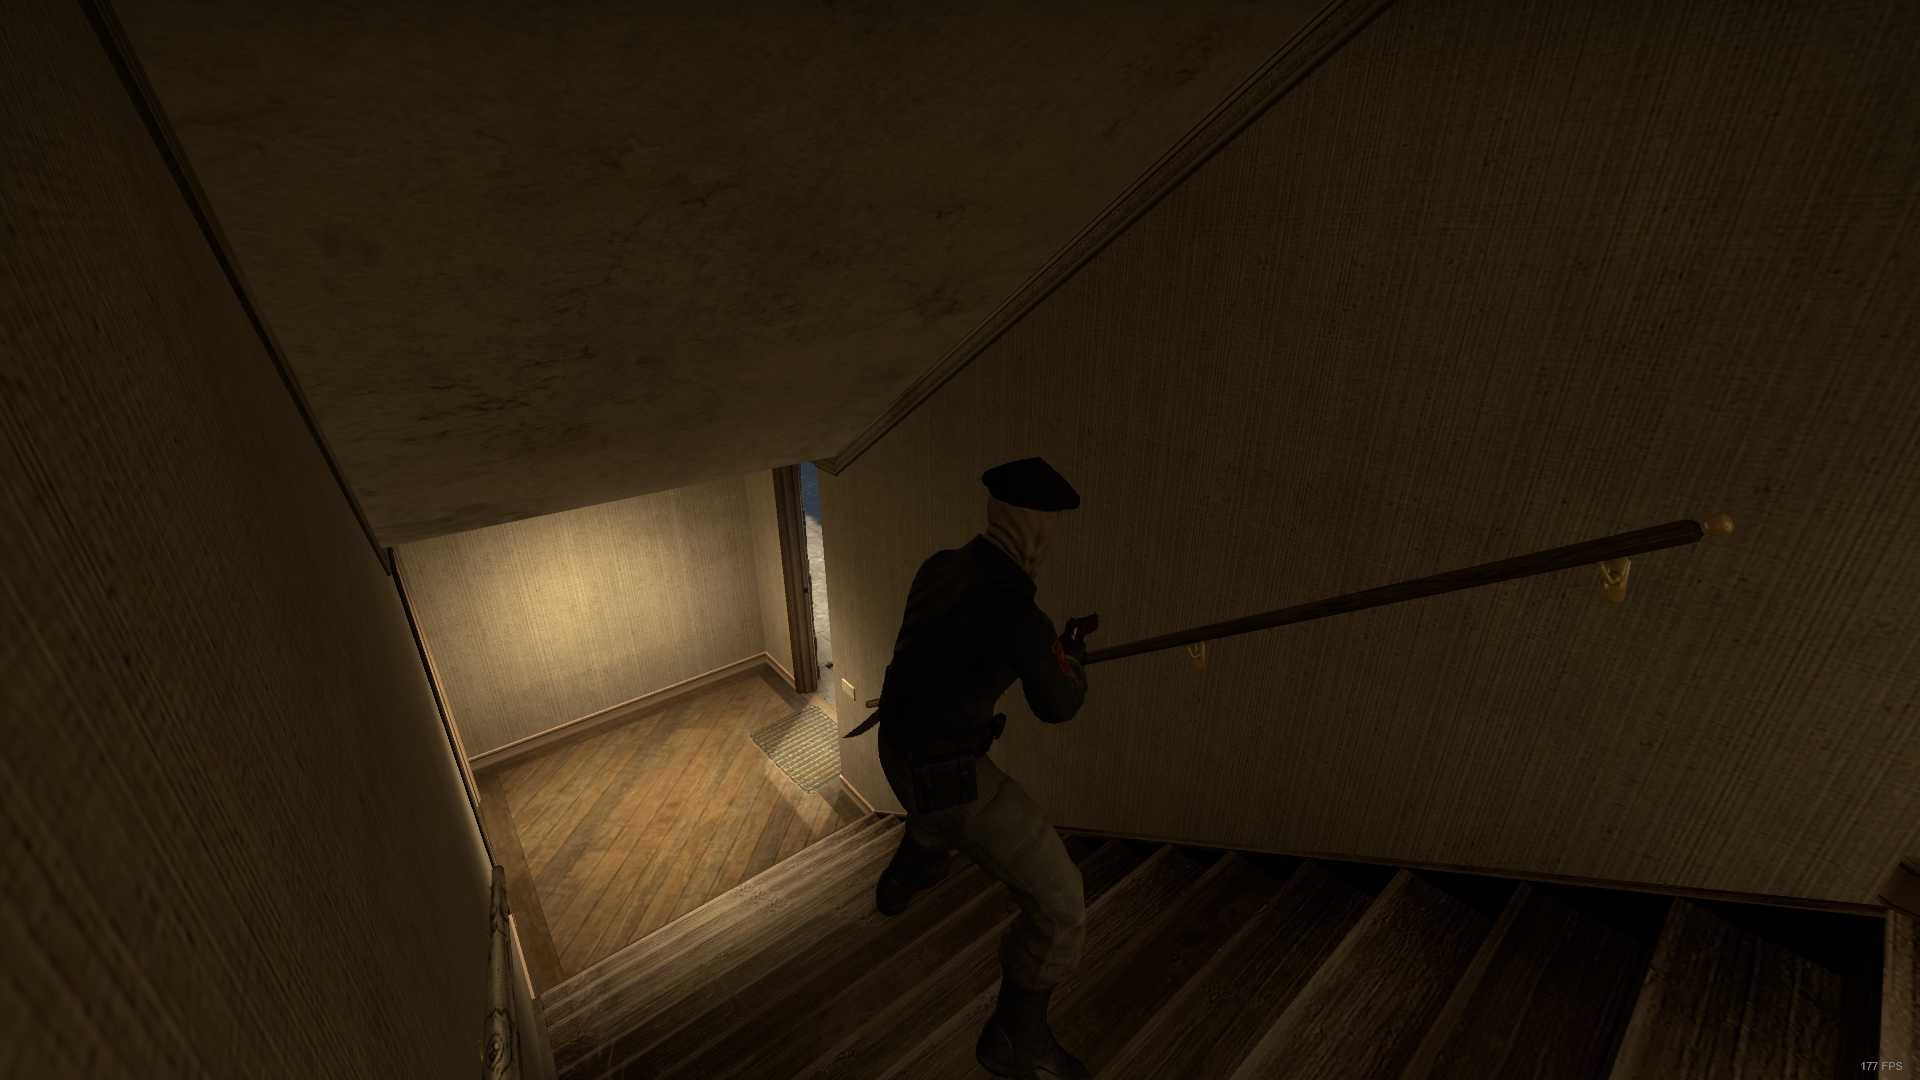t: (865, 454, 1127, 1080)
